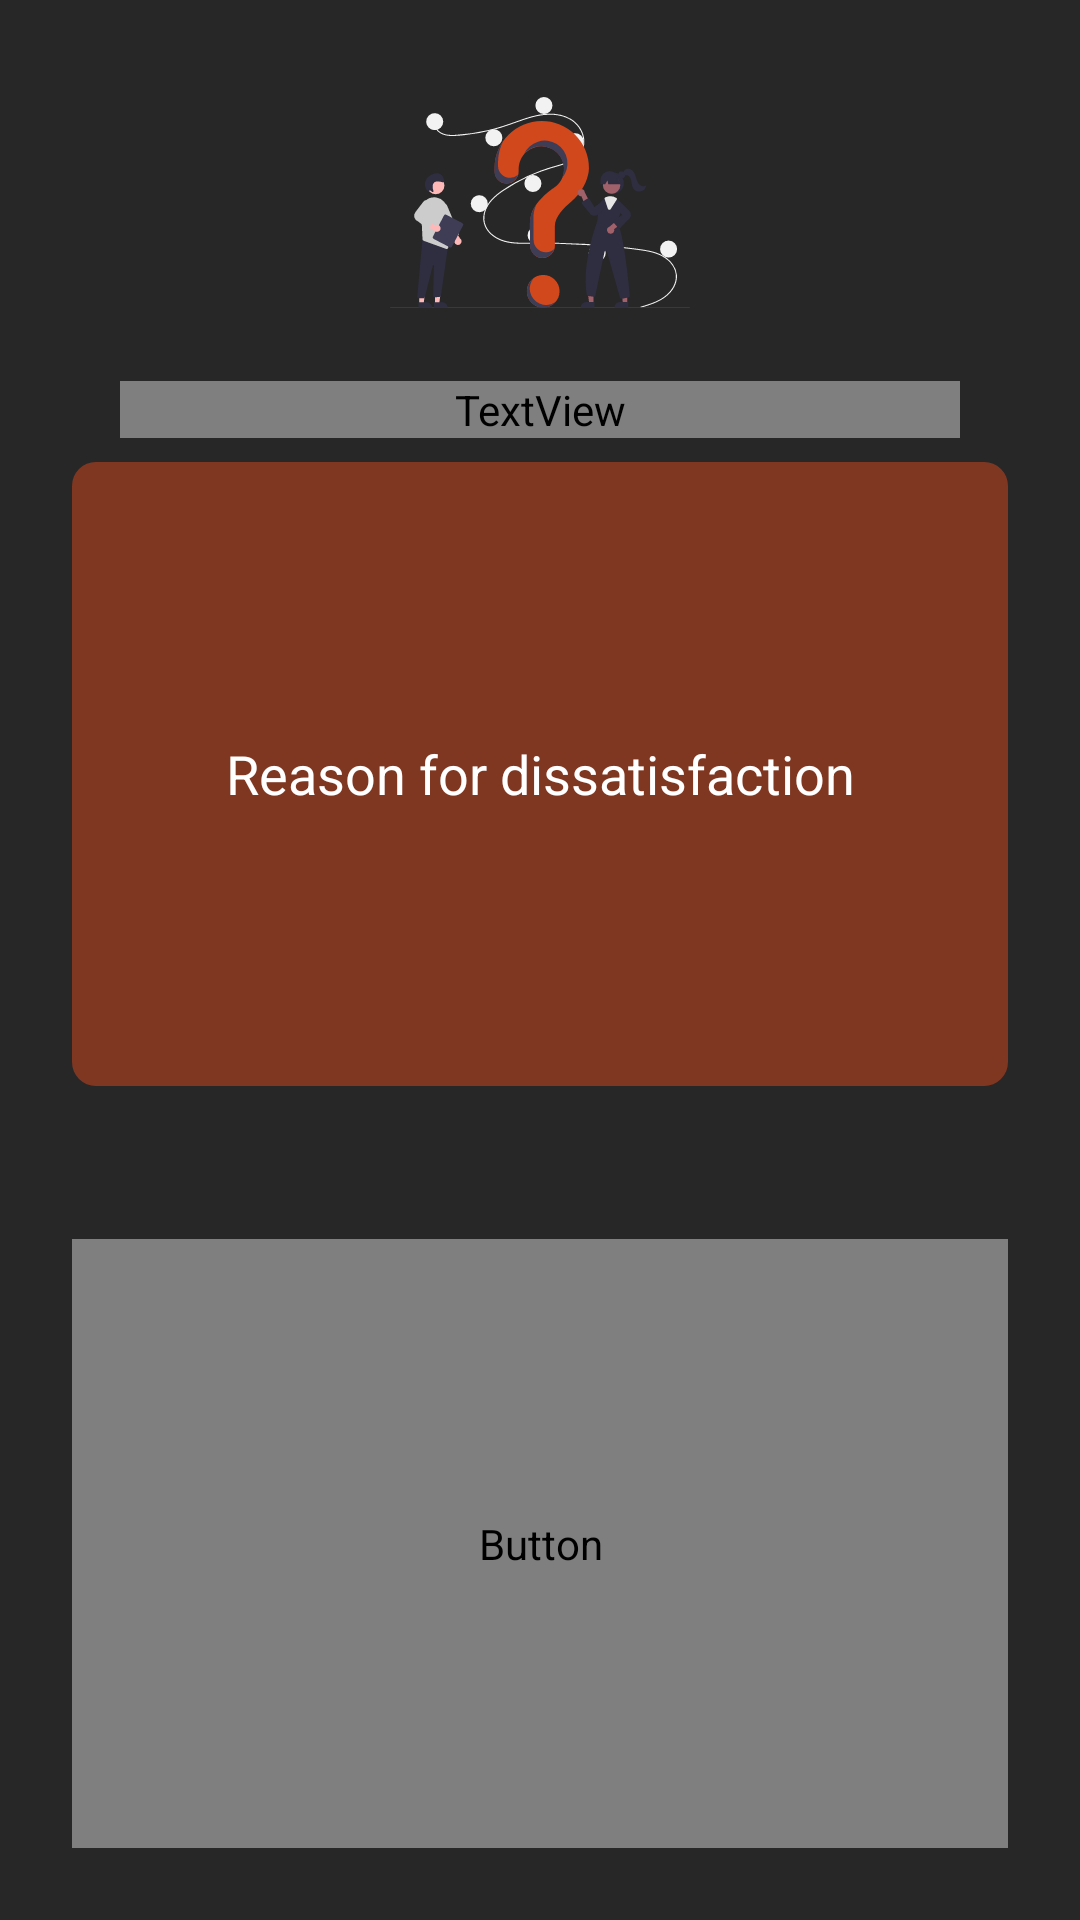

Named icons in this screenshot (1080*1920) and their centers, (x,y):
question: (540,202)
